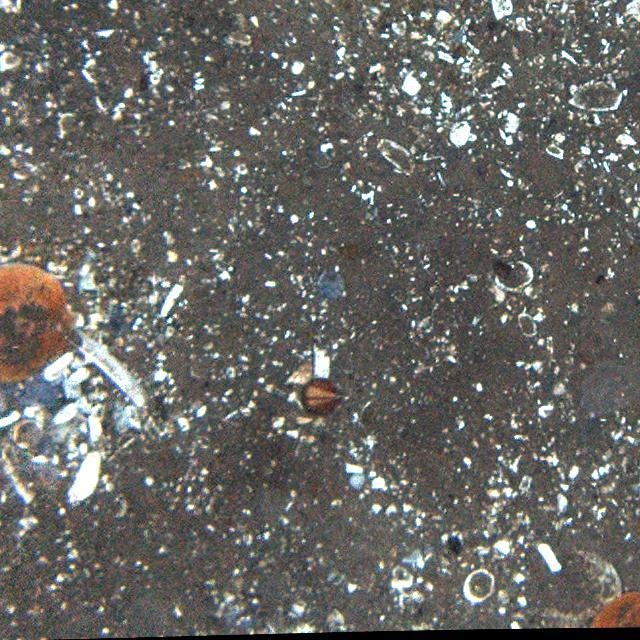scallop: (0, 264, 74, 381), (302, 376, 342, 418)
